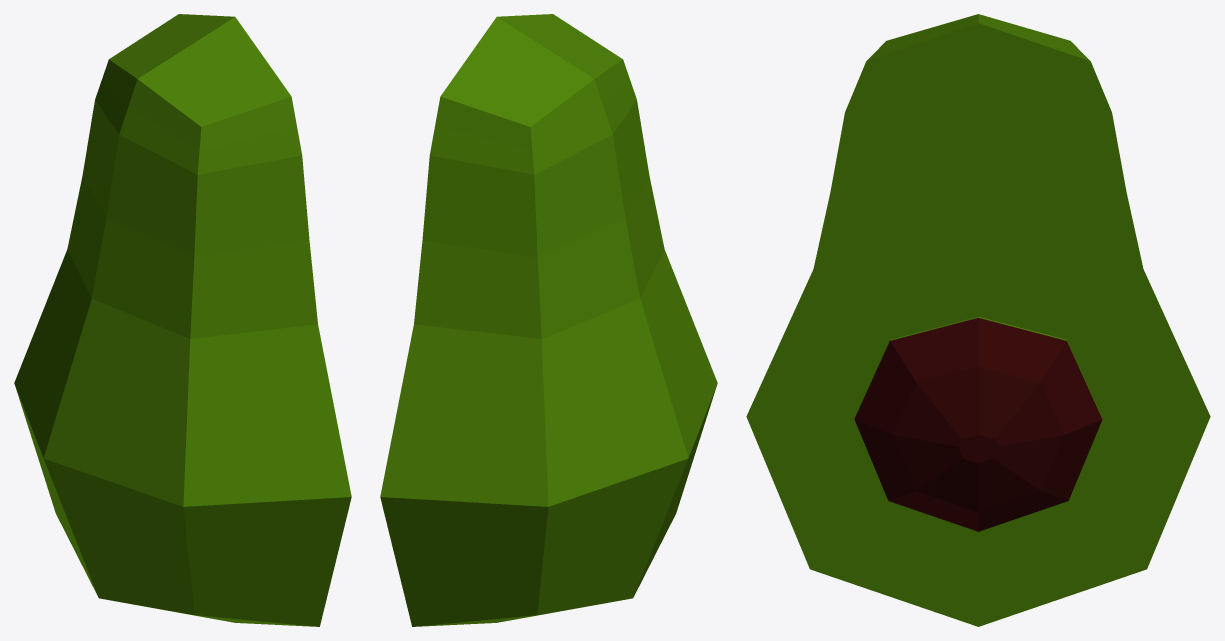
File: Avocado.fbx
3 renders of one model, left to right at view 1: azimuth 30°, elevation 25°; view 2: azimuth 150°, elevation 25°; view 3: azimuth 270°, elevation 25°, orthographic.
Visible parts, largest first — view 1: Avocado; view 2: Avocado; view 3: Avocado.
Part boxes in pixels (box(x1,y1,x2,y2)): Avocado: box(14, 14, 351, 626); Avocado: box(380, 14, 717, 626); Avocado: box(746, 14, 1210, 626).
Bounding box in the file's own units: 118 × 276 × 192.
